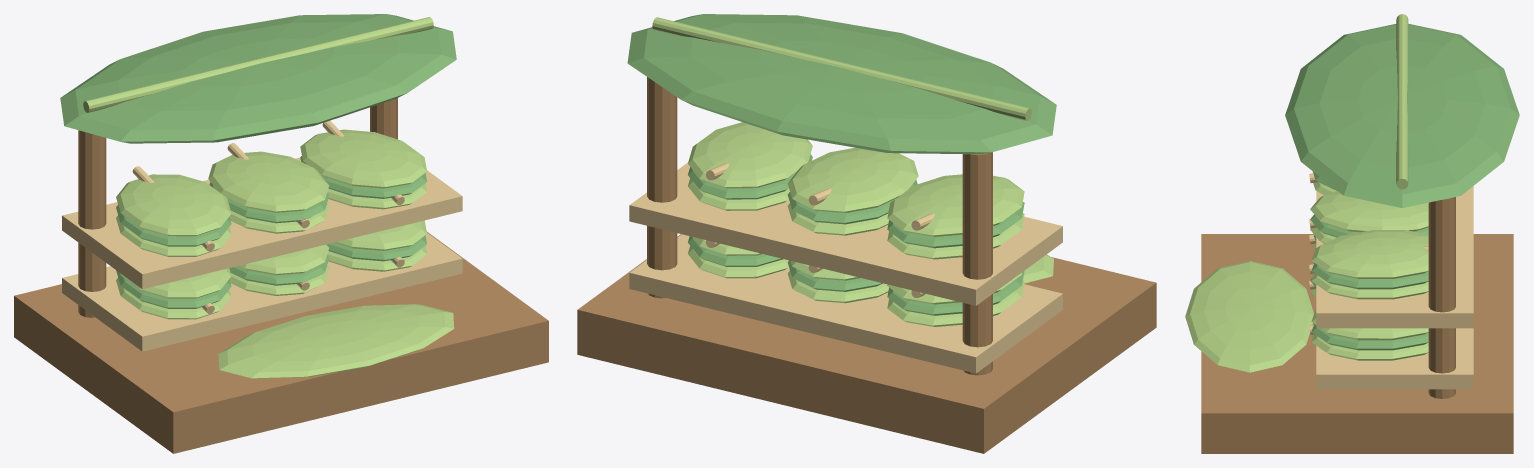
Rendered from LeafDepot2.fbx.
The picture shows the model from 3 angles, left to right: view 1: azimuth 30°, elevation 25°; view 2: azimuth 150°, elevation 25°; view 3: azimuth 270°, elevation 25°; orthographic projection. The views are drawn at different scales.
Visible parts, largest first — view 1: Depot wooden base.001, Leaf depot awning.001, Sorting shelf.002, Sorting shelf.001, Leaf sorting mat.001, Stacked leaf.026, Stacked leaf.023, Stacked leaf.020, Rack post.002, Awning vein.001, Stacked leaf.011, Stacked leaf.017 (+14 smaller); view 2: Depot wooden base.001, Leaf depot awning.001, Sorting shelf.002, Sorting shelf.001, Stacked leaf.023, Stacked leaf.026, Rack post.002, Rack post.003, Stacked leaf.020, Awning vein.001, Stacked leaf.019, Stacked leaf.009 (+11 smaller); view 3: Depot wooden base.001, Leaf depot awning.001, Leaf sorting mat.001, Sorting shelf.002, Sorting shelf.001, Stacked leaf.026, Rack post.003, Stacked leaf.023, Awning vein.001, Stacked leaf.015, Stacked leaf.024, Stacked leaf.025 (+3 smaller).
Part boxes in pixels (left/top/right/bottom): Depot wooden base.001: left=14, top=231, right=548, bottom=453; Leaf depot awning.001: left=60, top=14, right=456, bottom=143; Sorting shelf.002: left=62, top=157, right=462, bottom=289; Sorting shelf.001: left=62, top=233, right=462, bottom=351; Leaf sorting mat.001: left=218, top=304, right=454, bottom=378; Stacked leaf.026: left=300, top=129, right=426, bottom=188; Stacked leaf.023: left=208, top=151, right=329, bottom=212; Stacked leaf.020: left=116, top=174, right=231, bottom=236; Rack post.002: left=78, top=130, right=106, bottom=317; Awning vein.001: left=83, top=17, right=433, bottom=112; Stacked leaf.011: left=120, top=268, right=231, bottom=298; Stacked leaf.017: left=334, top=220, right=426, bottom=250; Depot wooden base.001: left=577, top=234, right=1156, bottom=453; Leaf depot awning.001: left=627, top=14, right=1056, bottom=154; Sorting shelf.002: left=629, top=162, right=1062, bottom=305; Sorting shelf.001: left=629, top=234, right=1062, bottom=373; Stacked leaf.023: left=787, top=147, right=918, bottom=212; Stacked leaf.026: left=688, top=122, right=812, bottom=188; Rack post.002: left=962, top=152, right=992, bottom=375; Rack post.003: left=647, top=77, right=677, bottom=298; Stacked leaf.020: left=887, top=174, right=1024, bottom=236; Awning vein.001: left=652, top=17, right=1031, bottom=120; Stacked leaf.019: left=887, top=202, right=1024, bottom=248; Stacked leaf.009: left=887, top=280, right=1024, bottom=326; Depot wooden base.001: left=1201, top=234, right=1513, bottom=453; Leaf depot awning.001: left=1285, top=23, right=1519, bottom=207; Leaf sorting mat.001: left=1185, top=261, right=1313, bottom=372; Sorting shelf.002: left=1316, top=186, right=1473, bottom=328; Sorting shelf.001: left=1316, top=328, right=1473, bottom=389; Stacked leaf.026: left=1311, top=230, right=1428, bottom=278; Rack post.003: left=1428, top=197, right=1455, bottom=398; Stacked leaf.023: left=1310, top=191, right=1428, bottom=232; Awning vein.001: left=1396, top=14, right=1408, bottom=189; Stacked leaf.015: left=1311, top=334, right=1428, bottom=360; Stacked leaf.024: left=1311, top=273, right=1428, bottom=299; Stacked leaf.025: left=1311, top=263, right=1428, bottom=289.
Size of the model in its own units: 176 by 118 by 134.
